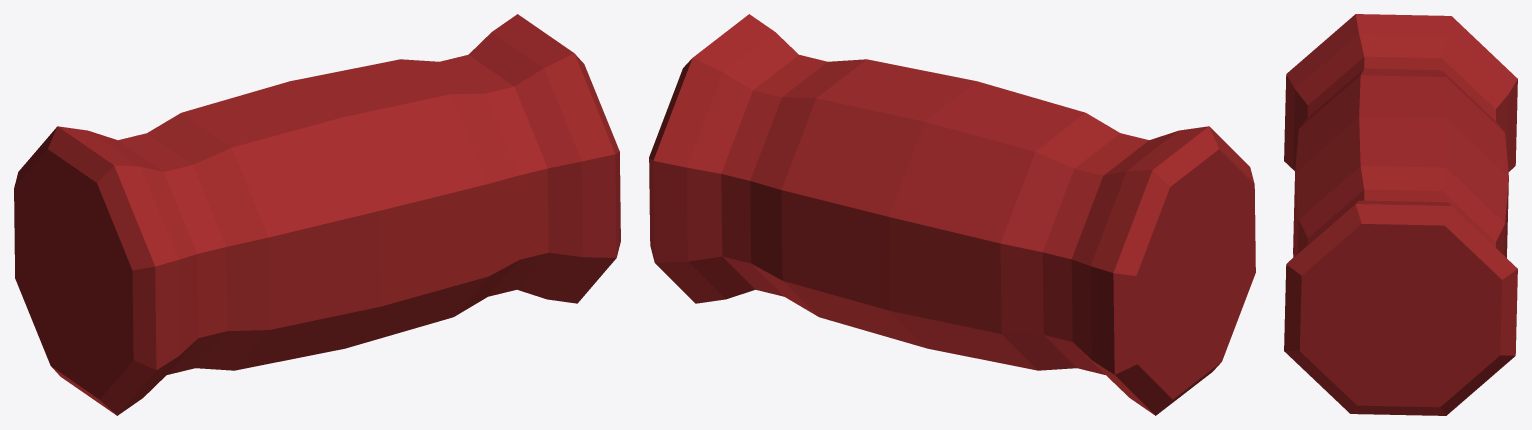
File: tent_canvas.glb
The picture shows the model from 3 angles, left to right: view 1: azimuth 30°, elevation 25°; view 2: azimuth 150°, elevation 25°; view 3: azimuth 270°, elevation 25°; orthographic projection. The views are drawn at different scales.
Parts seen in each view (by area): view 1: SleepingBag.001; view 2: SleepingBag.001; view 3: SleepingBag.001.
Part boxes in pixels (left/top/right/bottom): SleepingBag.001: left=14, top=14, right=620, bottom=415; SleepingBag.001: left=649, top=14, right=1255, bottom=415; SleepingBag.001: left=1284, top=14, right=1517, bottom=415.
Size of the model in its own units: 0.6808 by 0.3345 by 0.3345.
